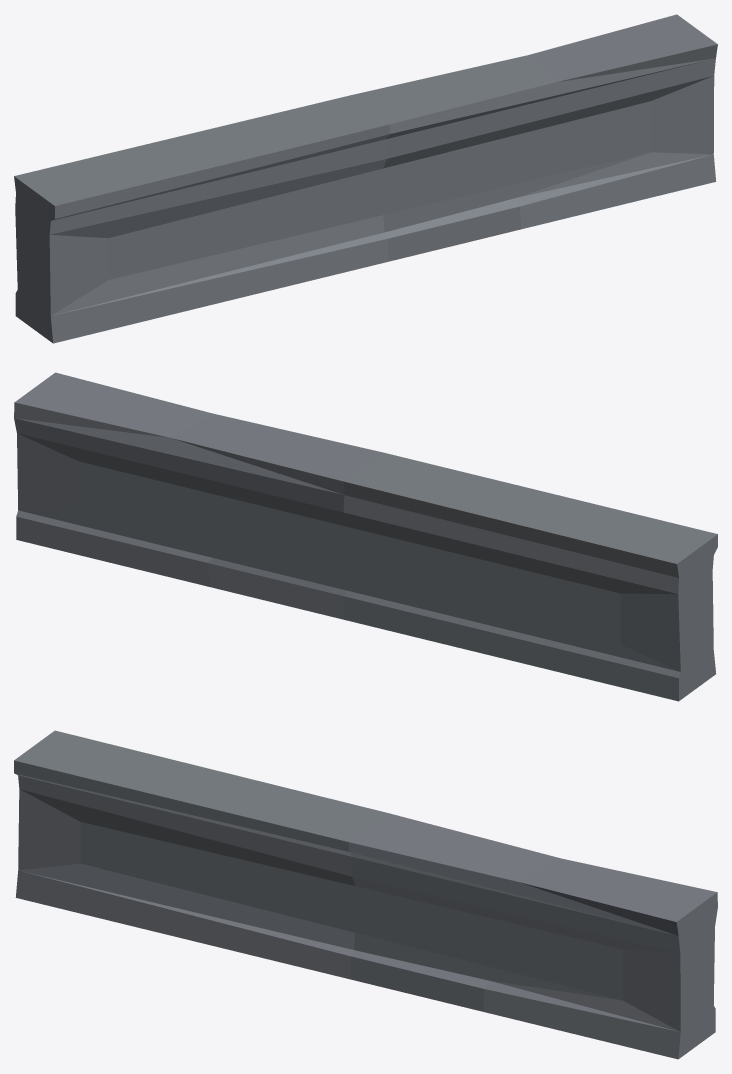
Rendered from wall_acc_07.FBX.
The picture shows the model from 3 angles, top to bottom: view 1: azimuth 30°, elevation 25°; view 2: azimuth 150°, elevation 25°; view 3: azimuth 330°, elevation 25°; orthographic projection.
Visible parts, largest first — view 1: wall_acc_07; view 2: wall_acc_07; view 3: wall_acc_07.
Part boxes in pixels (x1,y1,x2,y2): wall_acc_07: [14, 14, 717, 343]; wall_acc_07: [14, 372, 717, 701]; wall_acc_07: [14, 730, 717, 1059].
Bounding box in the file's own units: 102 × 20.44 × 11.05.
